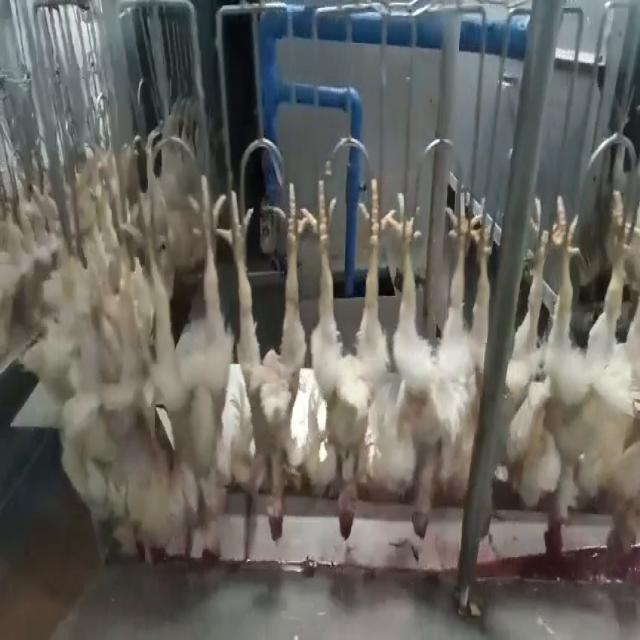chicken: (390, 200, 491, 543), (146, 170, 221, 567), (309, 174, 382, 541), (233, 177, 305, 544), (511, 195, 582, 566), (586, 184, 640, 582)
